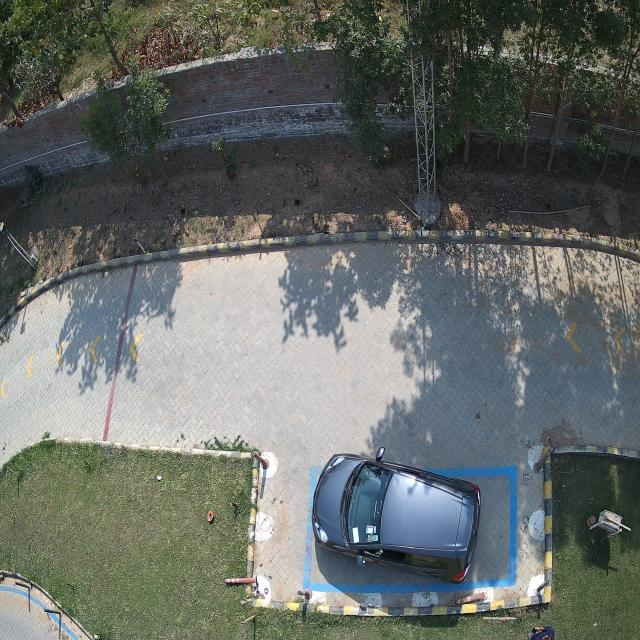car: (311, 451, 485, 581)
